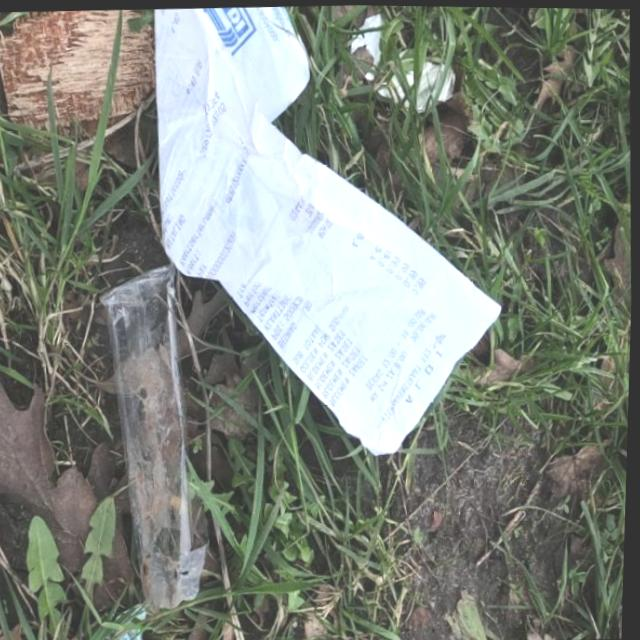Paper: (139, 2, 516, 466), (346, 6, 458, 116)
Plastic: (90, 258, 221, 611)
